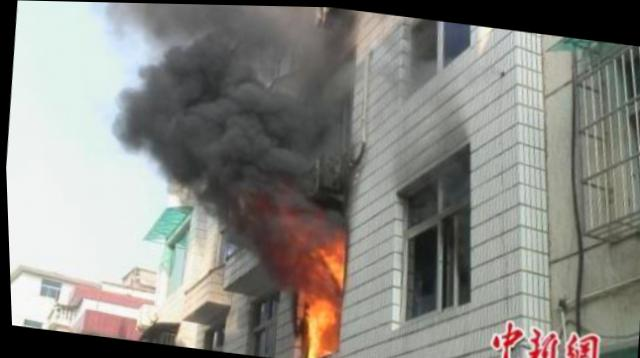fire: (294, 222, 346, 285), (296, 290, 338, 355)
